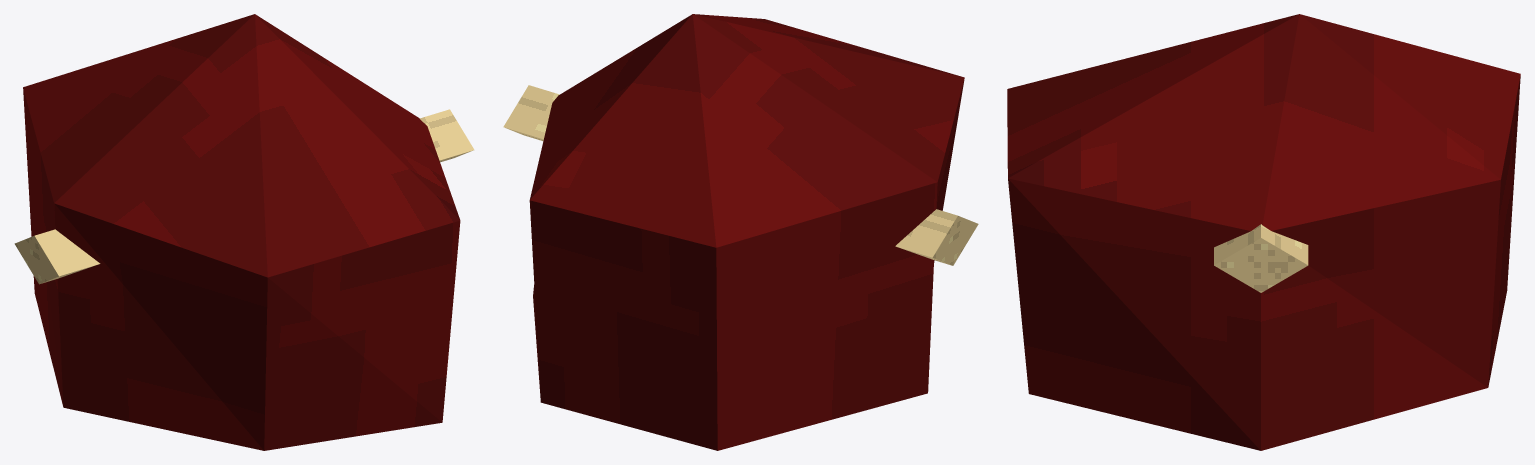
Rendered from carne_fresca.glb.
The picture shows the model from 3 angles, left to right: view 1: azimuth 30°, elevation 25°; view 2: azimuth 150°, elevation 25°; view 3: azimuth 270°, elevation 25°; orthographic projection. The views are drawn at different scales.
Visible parts, largest first — view 1: carne, hueso; view 2: carne, hueso; view 3: carne, hueso.
Part boxes in pixels (bbox=[...]): carne: bbox=[23, 14, 460, 450]; hueso: bbox=[14, 109, 474, 284]; carne: bbox=[529, 14, 964, 450]; hueso: bbox=[503, 85, 978, 265]; carne: bbox=[1007, 14, 1520, 450]; hueso: bbox=[1214, 224, 1308, 292].
Size of the model in its own units: 0.2 by 0.15 by 0.2.
Materials: 1 (1 with a texture image).
